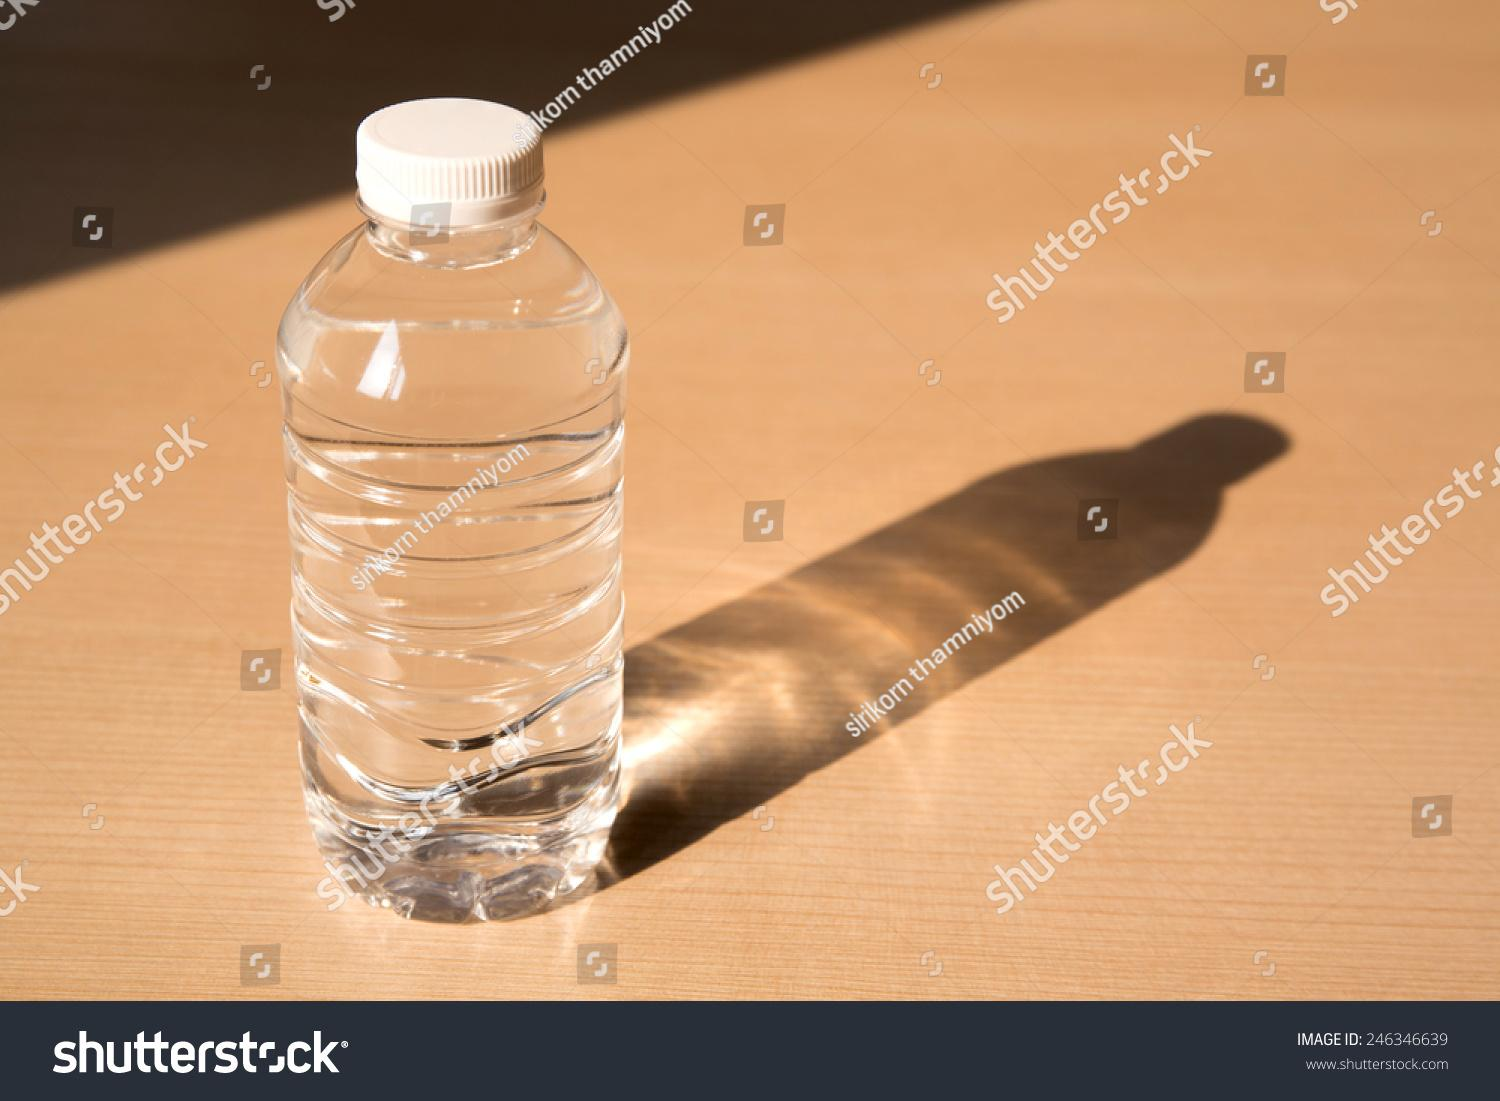plastic_bottle: (274, 100, 645, 920)
